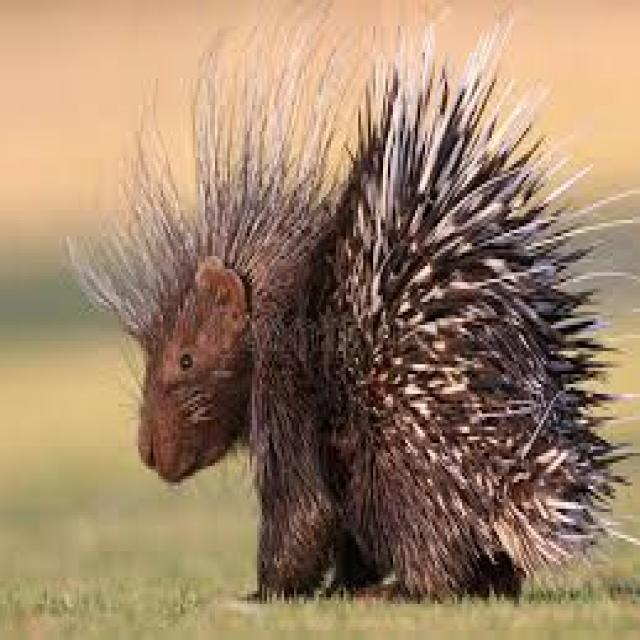Porcupine: (133, 59, 600, 596)
